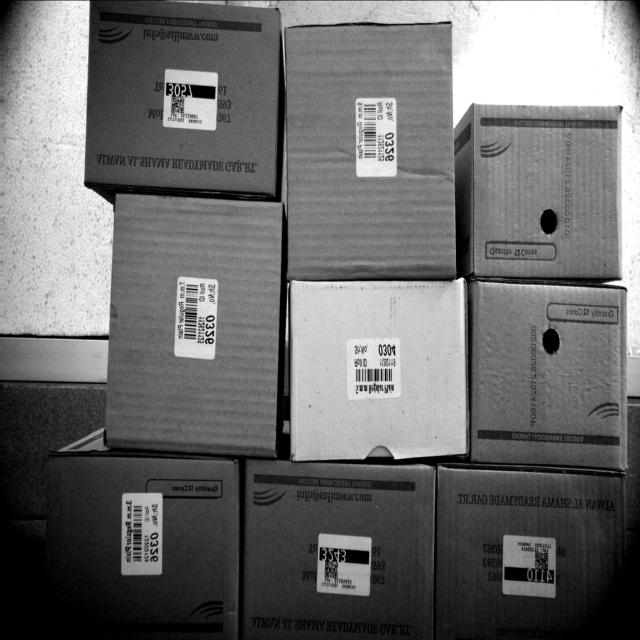cardboxes: (109, 187, 282, 447), (284, 17, 452, 278), (87, 6, 283, 186), (57, 449, 240, 639), (239, 464, 434, 639), (290, 276, 466, 452), (438, 475, 623, 639), (468, 284, 630, 462), (468, 104, 626, 270)
